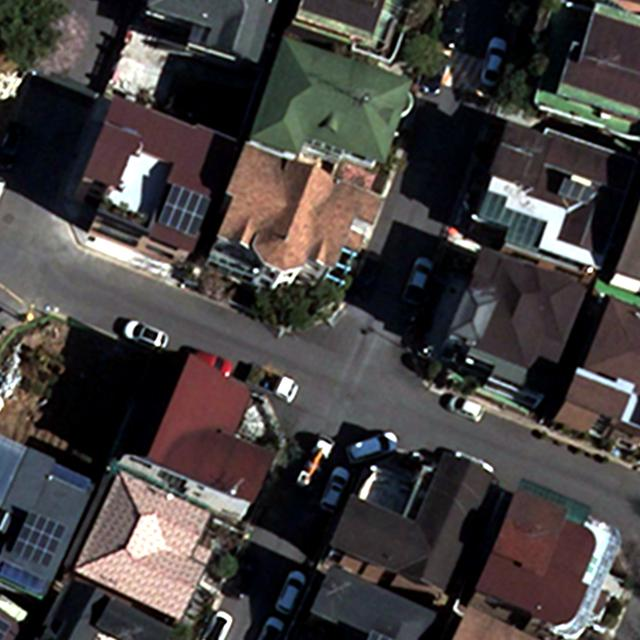panel: (9, 510, 67, 576), (153, 181, 213, 240), (557, 173, 595, 206)
